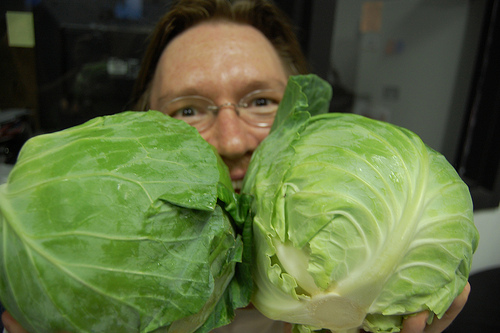cabbage: (242, 73, 479, 324), (0, 108, 239, 331)
